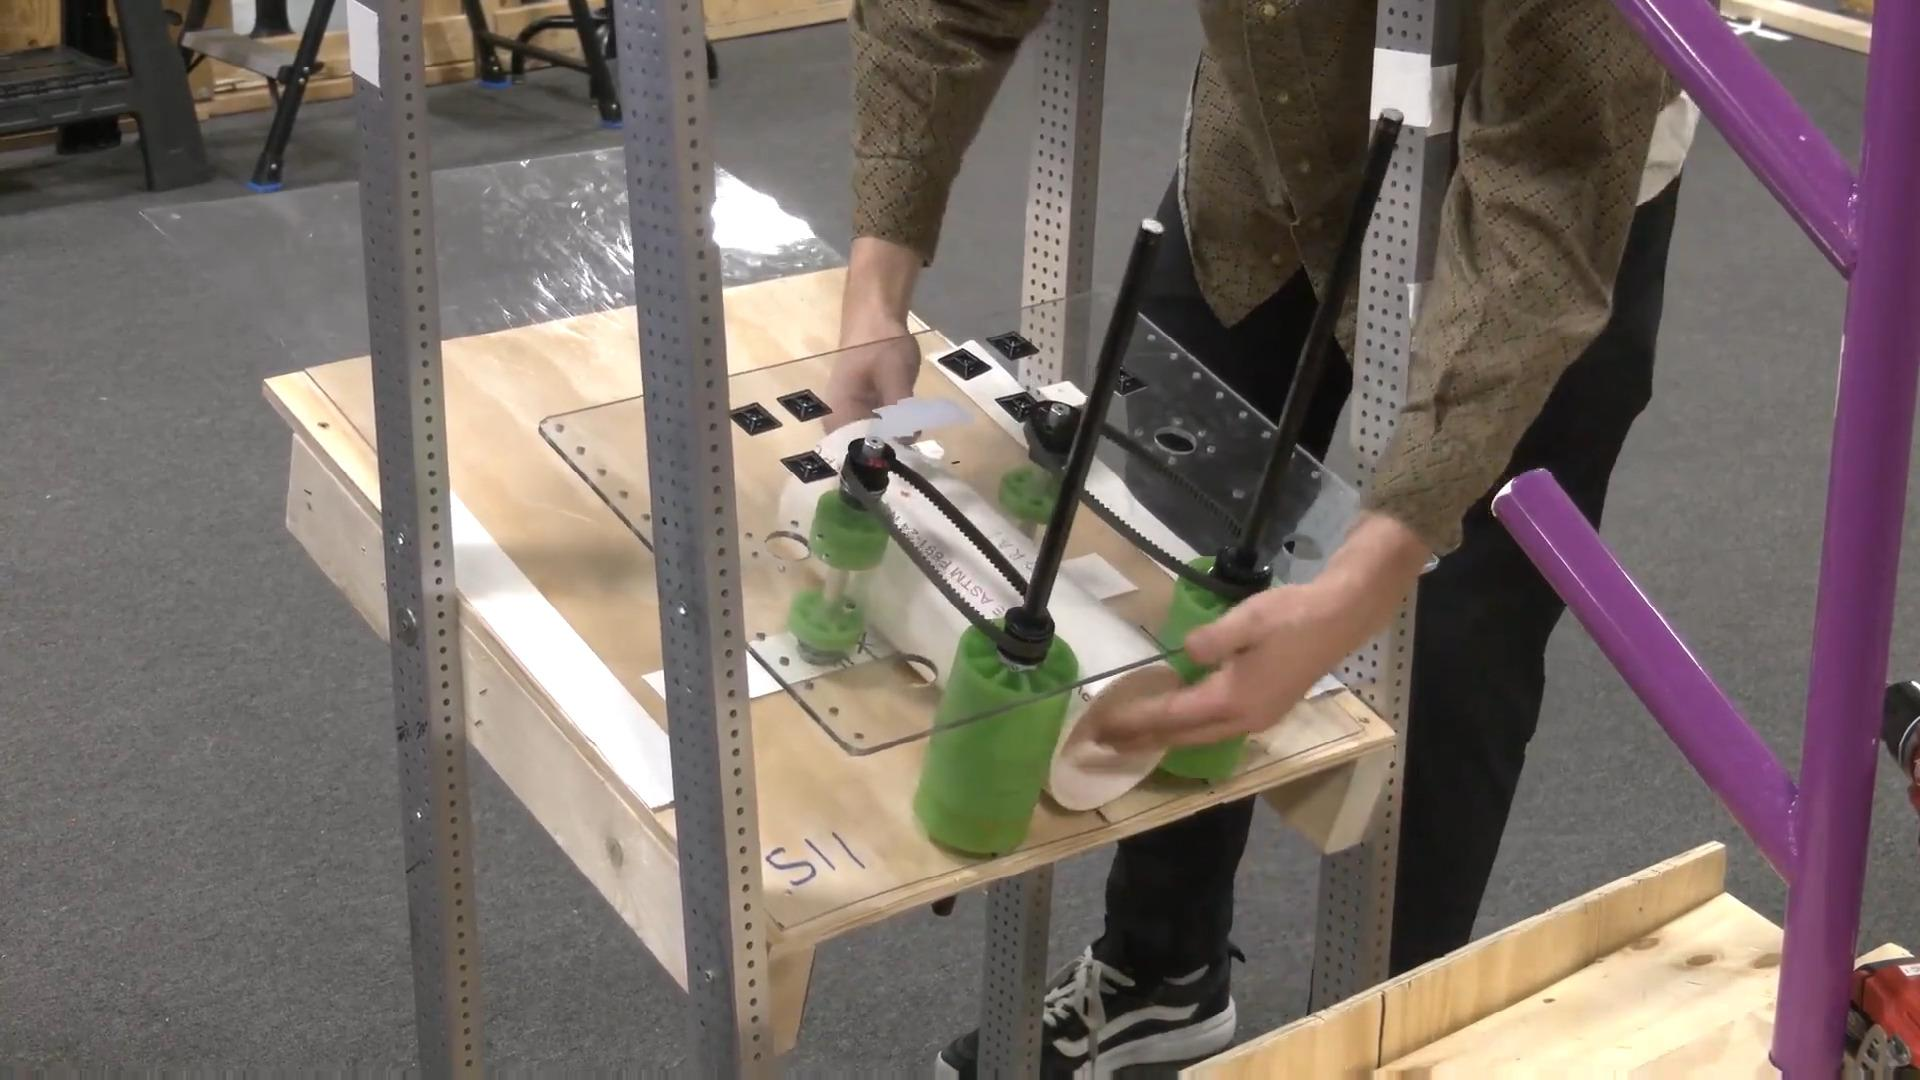coral: (779, 418, 1185, 812)
